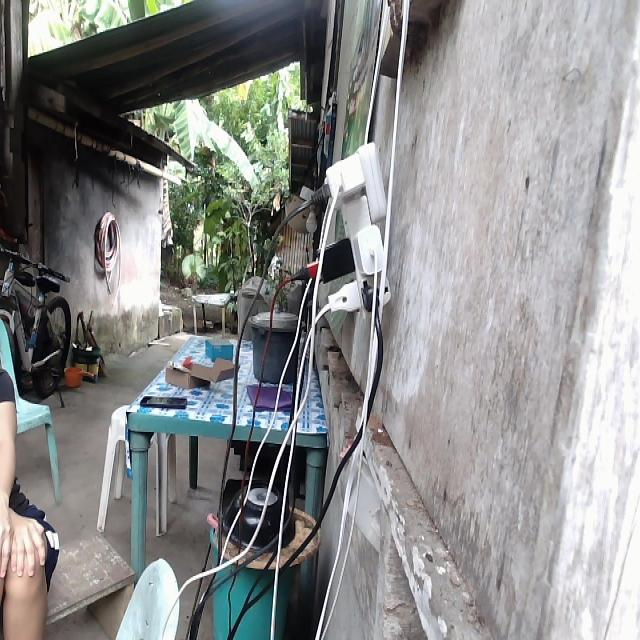-: (295, 143, 392, 321)
